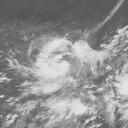cyclone: (27, 38, 103, 100)
